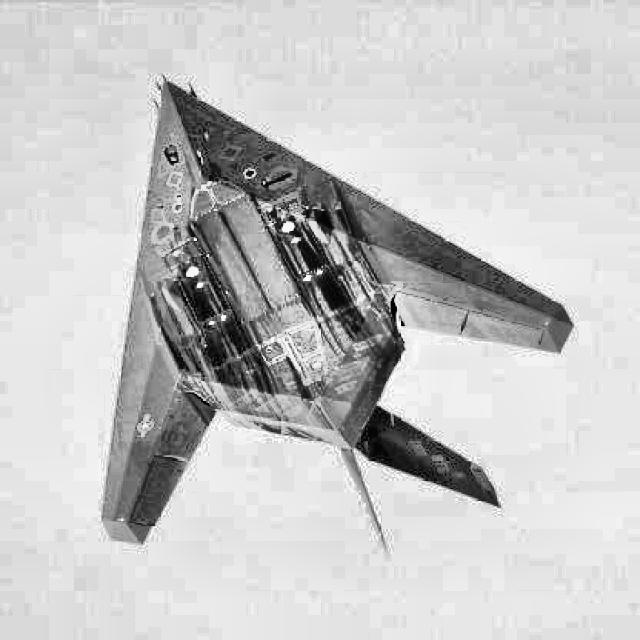F117: (100, 74, 574, 557)
